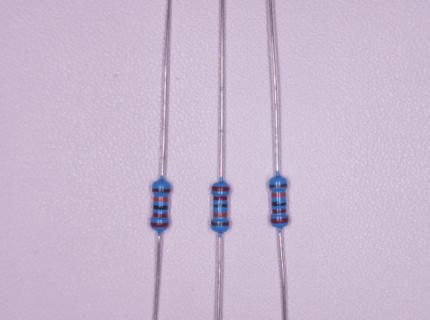Black band: (153, 205, 168, 210), (272, 202, 286, 207), (214, 204, 227, 207)
Brown band: (269, 183, 287, 188), (152, 189, 171, 193), (211, 222, 229, 226)
Orange band: (272, 193, 286, 198), (154, 197, 168, 201), (213, 213, 227, 217)
Red band: (212, 186, 229, 191), (271, 218, 288, 223), (150, 223, 169, 227), (213, 196, 227, 201), (273, 209, 286, 214), (153, 213, 167, 217)
